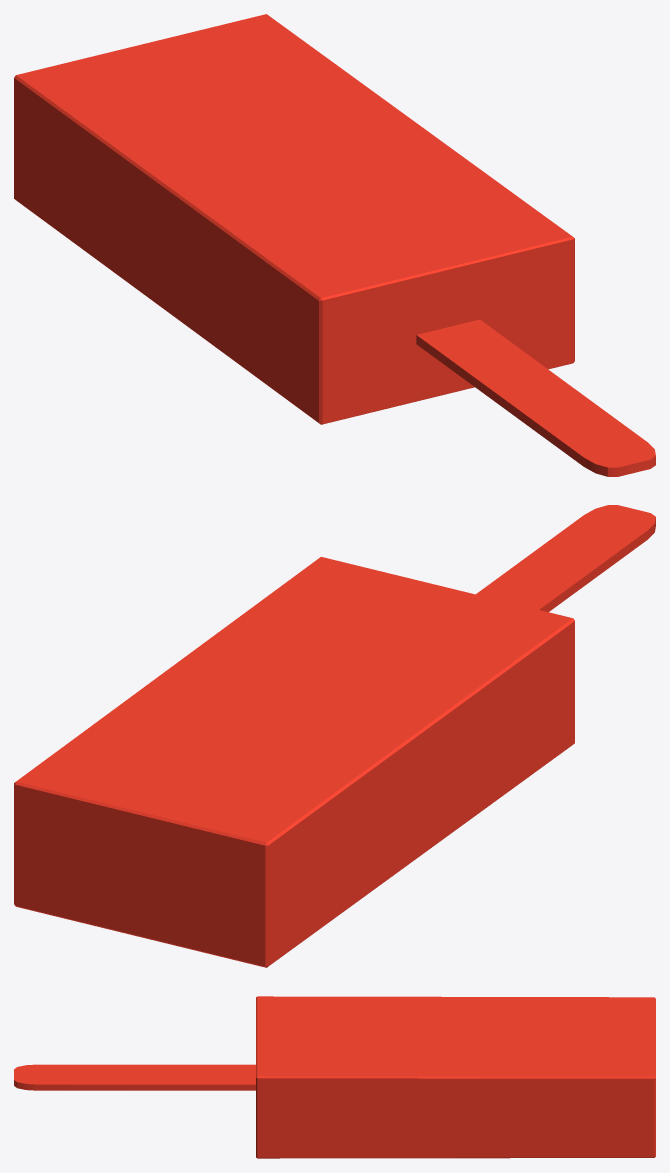
The model's file is Lodzik.fbx.
3 views of the same model, one above another, from view 1: azimuth 30°, elevation 25°; view 2: azimuth 150°, elevation 25°; view 3: azimuth 270°, elevation 25° (orthographic). The views are drawn at different scales.
Visible parts, largest first — view 1: LUD_LOD0; view 2: LUD_LOD0; view 3: LUD_LOD0.
Part boxes in pixels (<box>): LUD_LOD0: <box>14,14,655,476</box>; LUD_LOD0: <box>14,505,655,967</box>; LUD_LOD0: <box>14,996,655,1158</box>.
Size of what is drawn, in the model's own units: 19.74 by 9.33 by 66.01.
